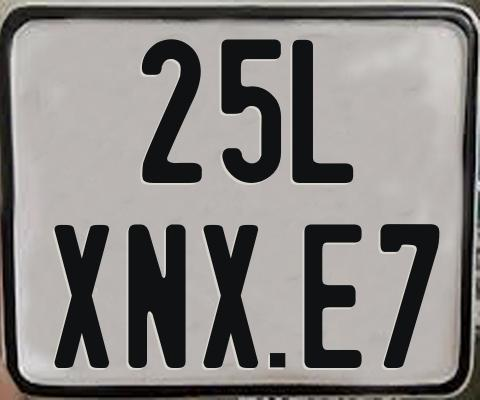2: (142, 39, 202, 189)
5: (219, 39, 284, 187)
7: (380, 223, 440, 371)
E: (301, 221, 365, 367)
L: (290, 40, 356, 184)
N: (127, 223, 191, 373)
X: (52, 224, 113, 368), (201, 225, 260, 373)
